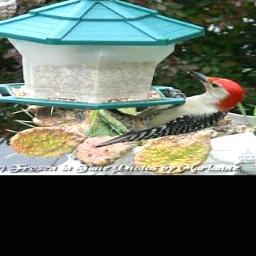Woodpecker: (90, 69, 244, 147)
